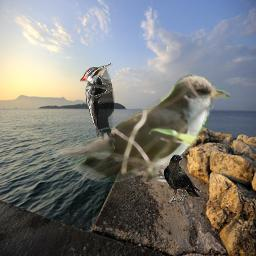Crow: (163, 154, 201, 203)
Cuckoo: (52, 74, 230, 182)
Woodpecker: (80, 63, 115, 152)
